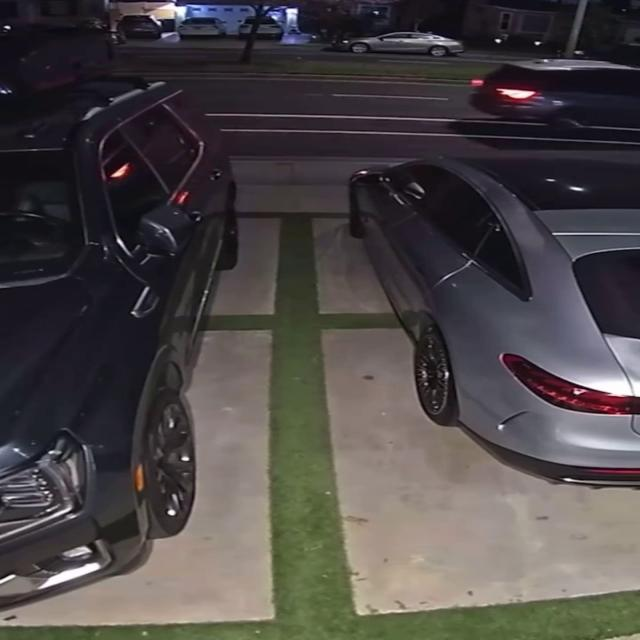Theft - Alert: (469, 60, 639, 129), (349, 158, 484, 236), (334, 32, 464, 56)
